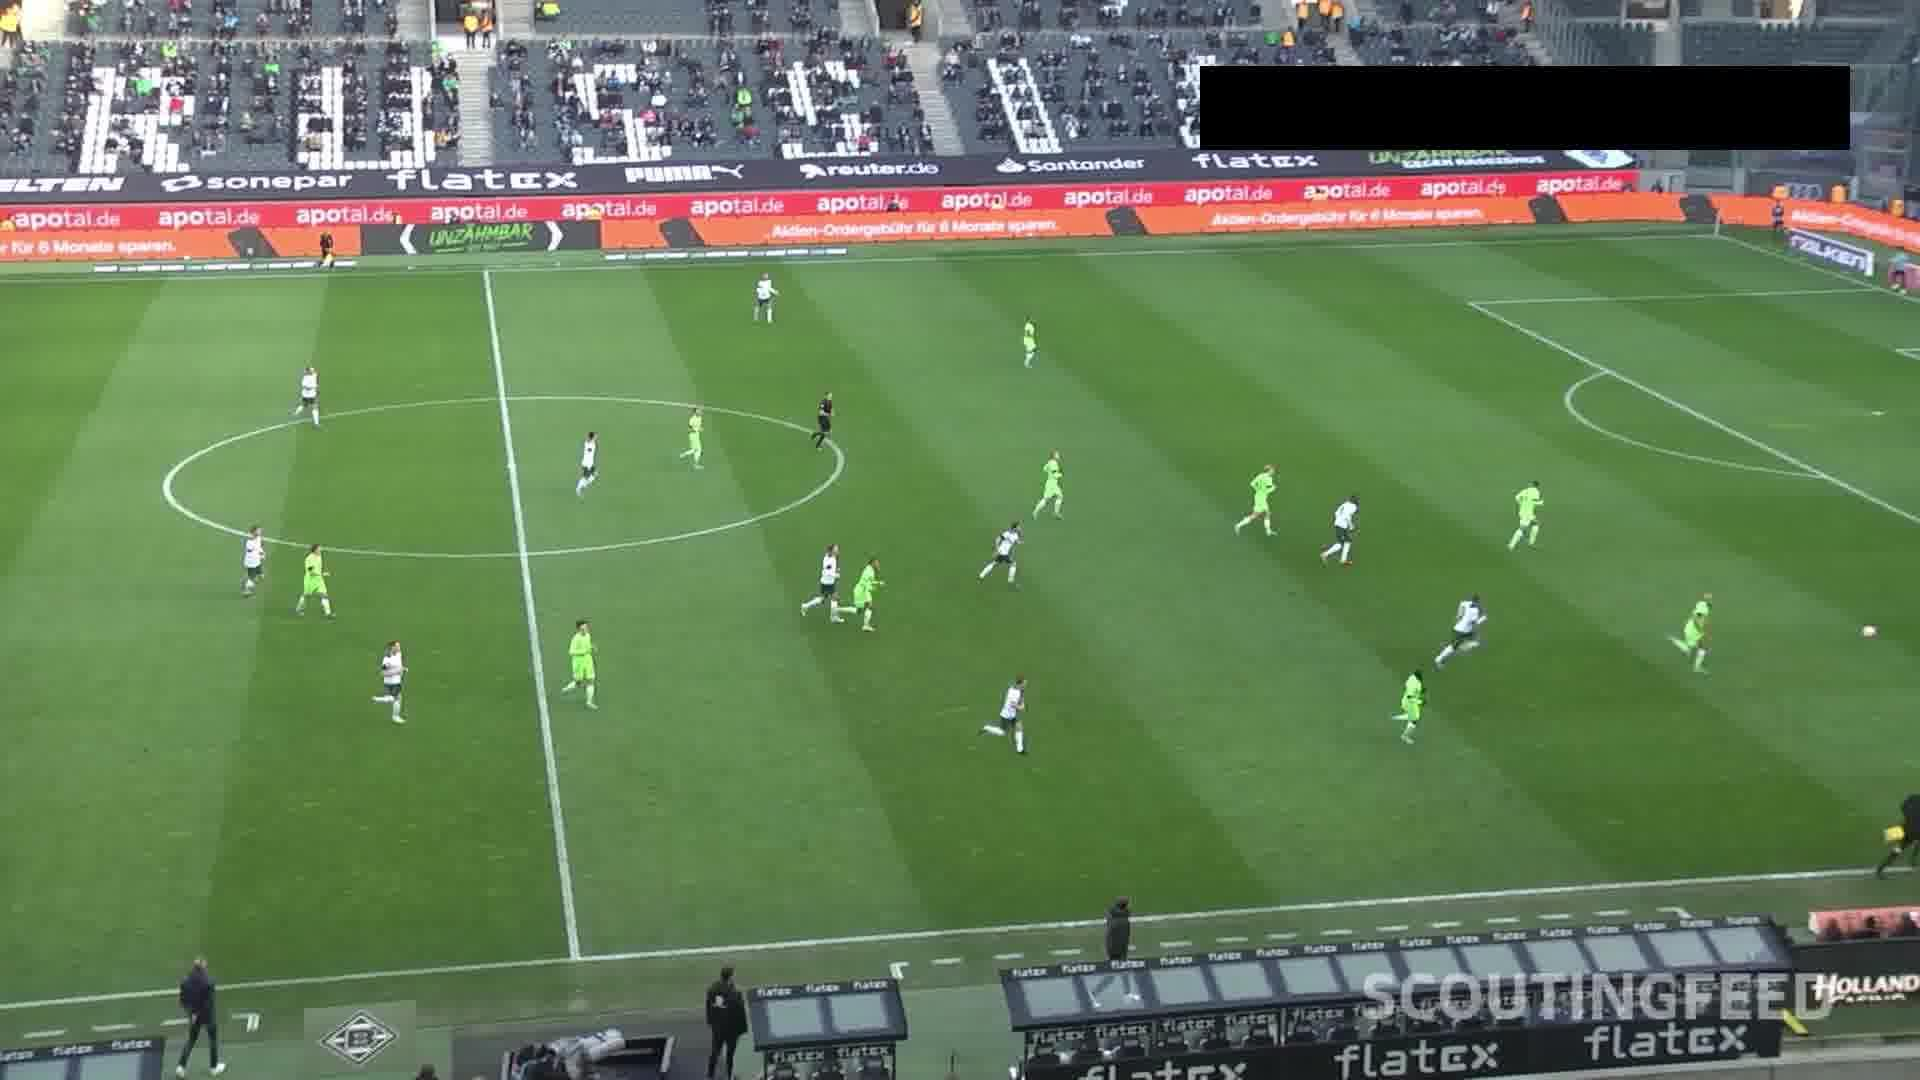football: (1858, 625, 1880, 640)
